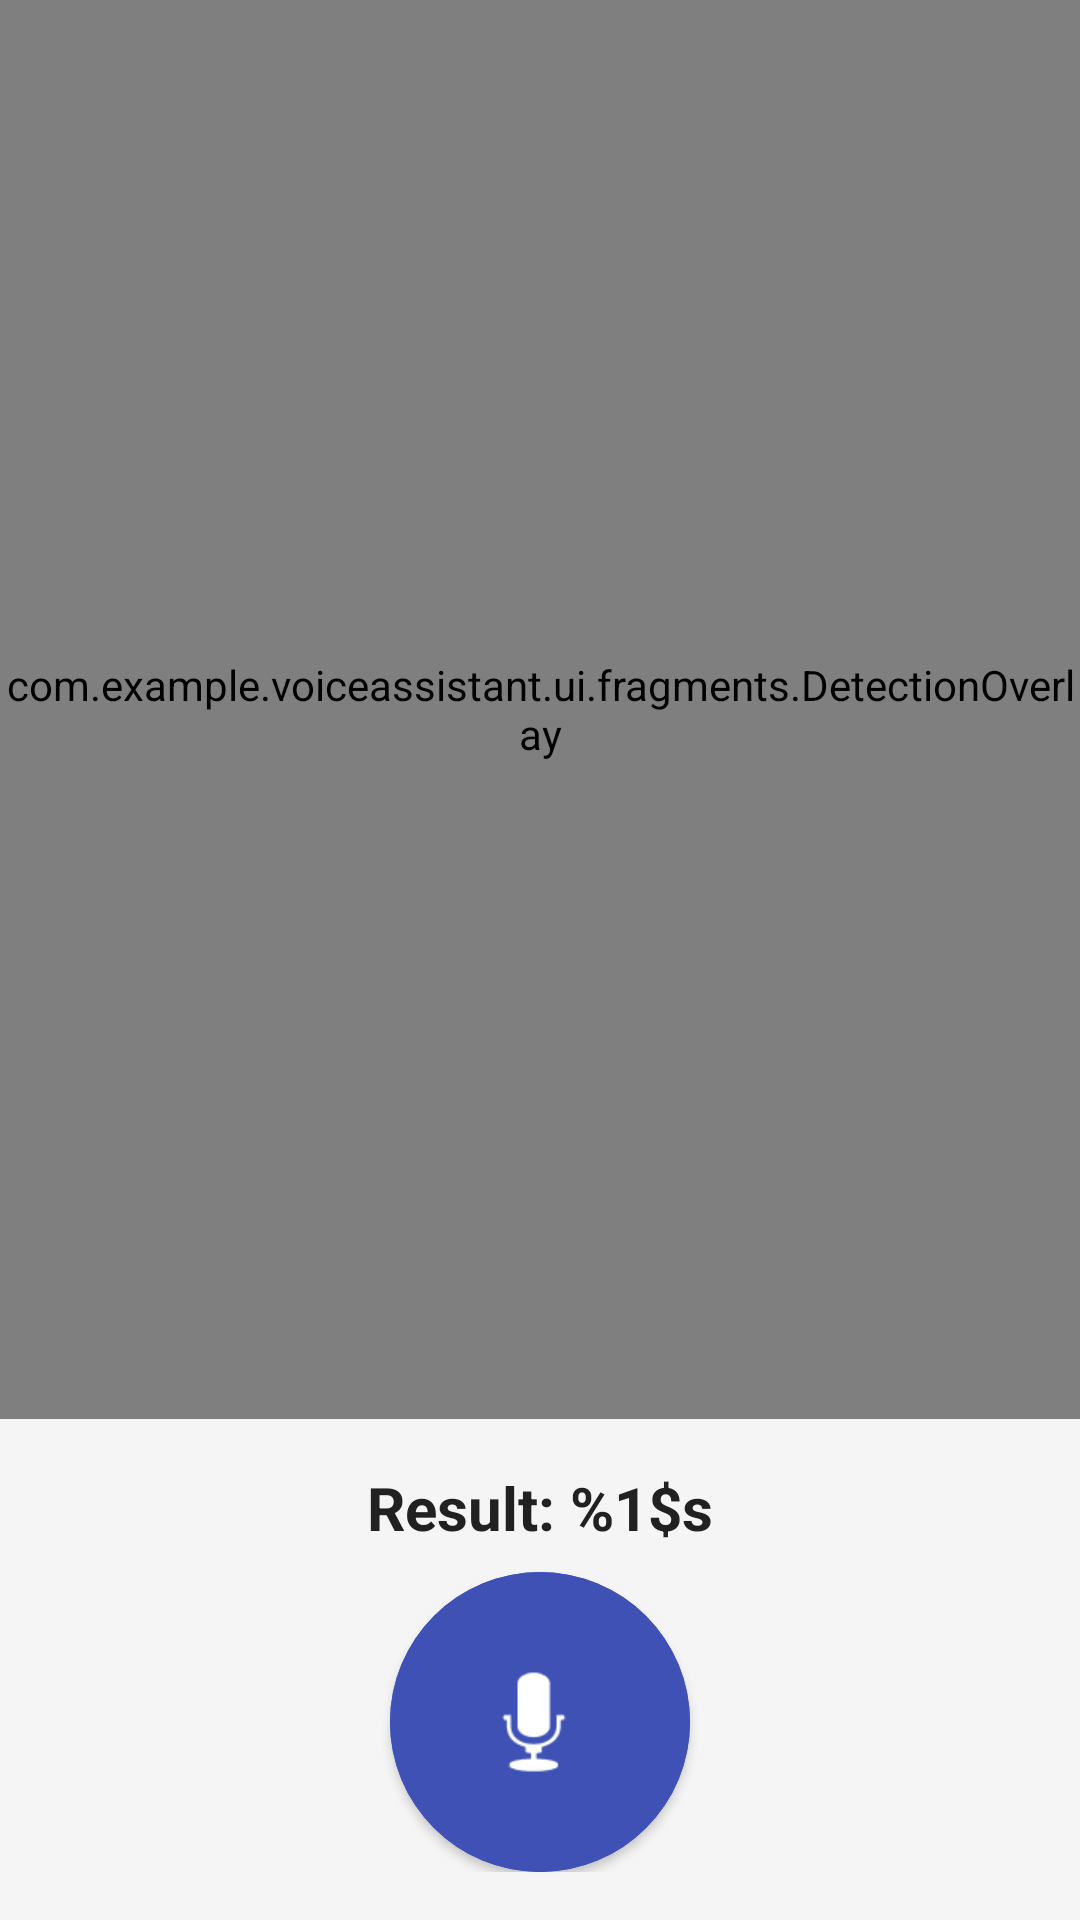

Icons on this 1080*1920 Android screen, each with the point to tap as point (x, y):
speak now: point (540, 1722)
